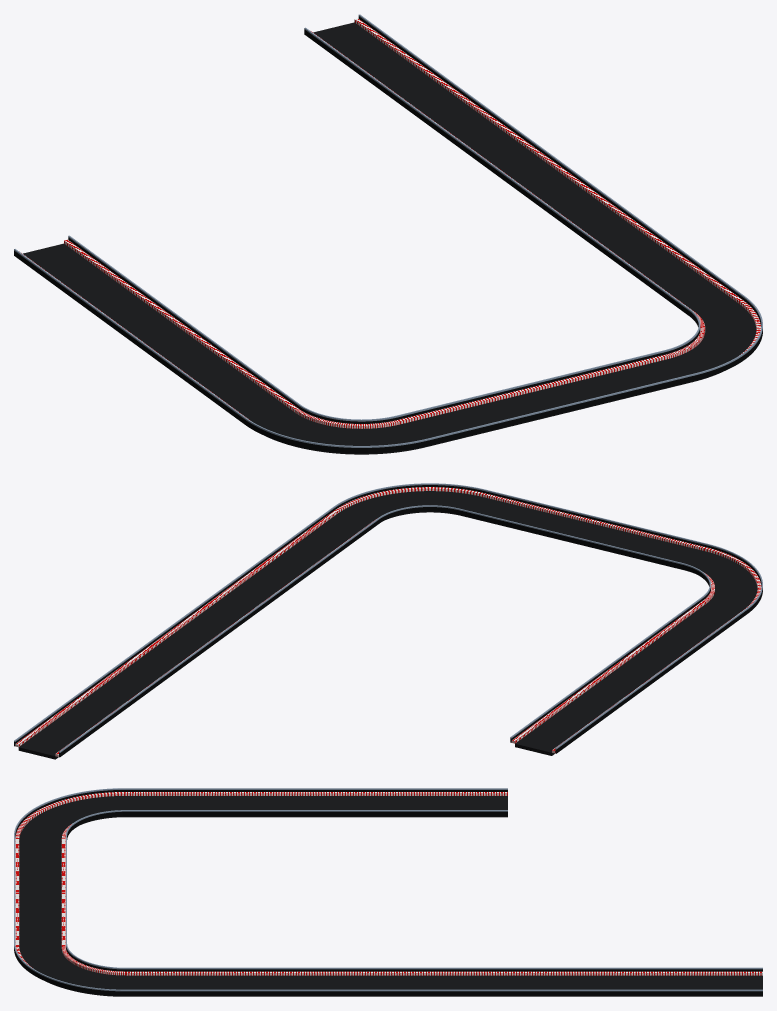
File: S016_MEDIUM_SEED_1602.glb
The picture shows the model from 3 angles, top to bottom: view 1: azimuth 30°, elevation 25°; view 2: azimuth 150°, elevation 25°; view 3: azimuth 270°, elevation 25°; orthographic projection. The views are drawn at different scales.
Visible parts, largest first — view 1: S016_MEDIUM_SEED_1602__instance_005__TRACK_STRAIGHT_MEDIUM__ (×3), S016_MEDIUM_SEED_1602__instance_004__TRACK_STRAIGHT_MEDIUM__ (×3), S016_MEDIUM_SEED_1602__instance_006__TRACK_CURVE_RIGHT_90__R, S016_MEDIUM_SEED_1602__instance_000__TRACK_STRAIGHT_MEDIUM__, S016_MEDIUM_SEED_1602__instance_002__TRACK_STRAIGHT_MEDIUM__, S016_MEDIUM_SEED_1602__instance_008__TRACK_STRAIGHT_MEDIUM__, S016_MEDIUM_SEED_1602__instance_009__TRACK_STRAIGHT_MEDIUM__, S016_MEDIUM_SEED_1602__instance_010__TRACK_STRAIGHT_MEDIUM__, S016_MEDIUM_SEED_1602__instance_001__TRACK_STRAIGHT_MEDIUM__, S016_MEDIUM_SEED_1602__instance_007__TRACK_STRAIGHT_MEDIUM__, S016_MEDIUM_SEED_1602__instance_011__TRACK_STRAIGHT_MEDIUM__, S016_MEDIUM_SEED_1602__instance_003__TRACK_CURVE_RIGHT_90__R (+1 smaller); view 2: S016_MEDIUM_SEED_1602__instance_004__TRACK_STRAIGHT_MEDIUM__ (×3), S016_MEDIUM_SEED_1602__instance_005__TRACK_STRAIGHT_MEDIUM__ (×3), S016_MEDIUM_SEED_1602__instance_003__TRACK_CURVE_RIGHT_90__R, S016_MEDIUM_SEED_1602__instance_011__TRACK_STRAIGHT_MEDIUM__, S016_MEDIUM_SEED_1602__instance_000__TRACK_STRAIGHT_MEDIUM__, S016_MEDIUM_SEED_1602__instance_006__TRACK_CURVE_RIGHT_90__R, S016_MEDIUM_SEED_1602__instance_002__TRACK_STRAIGHT_MEDIUM__, S016_MEDIUM_SEED_1602__instance_008__TRACK_STRAIGHT_MEDIUM__, S016_MEDIUM_SEED_1602__instance_009__TRACK_STRAIGHT_MEDIUM__, S016_MEDIUM_SEED_1602__instance_010__TRACK_STRAIGHT_MEDIUM__, S016_MEDIUM_SEED_1602__instance_001__TRACK_STRAIGHT_MEDIUM__, S016_MEDIUM_SEED_1602__instance_007__TRACK_STRAIGHT_MEDIUM__ (+1 smaller); view 3: S016_MEDIUM_SEED_1602__instance_008__TRACK_STRAIGHT_MEDIUM__ (×6), S016_MEDIUM_SEED_1602__instance_010__TRACK_STRAIGHT_MEDIUM__ (×6), S016_MEDIUM_SEED_1602__instance_007__TRACK_STRAIGHT_MEDIUM__ (×6), S016_MEDIUM_SEED_1602__instance_009__TRACK_STRAIGHT_MEDIUM__ (×6), S016_MEDIUM_SEED_1602__instance_011__TRACK_STRAIGHT_MEDIUM__ (×6), S016_MEDIUM_SEED_1602__instance_001__TRACK_STRAIGHT_MEDIUM__ (×3), S016_MEDIUM_SEED_1602__instance_000__TRACK_STRAIGHT_MEDIUM__ (×3), S016_MEDIUM_SEED_1602__instance_002__TRACK_STRAIGHT_MEDIUM__ (×3), S016_MEDIUM_SEED_1602__instance_004__TRACK_STRAIGHT_MEDIUM__, S016_MEDIUM_SEED_1602__instance_005__TRACK_STRAIGHT_MEDIUM__, S016_MEDIUM_SEED_1602__instance_003__TRACK_CURVE_RIGHT_90__R, S016_MEDIUM_SEED_1602__instance_006__TRACK_CURVE_RIGHT_90__R (+2 smaller).
Part boxes in pixels (box(x1,y1,x2,y2)): S016_MEDIUM_SEED_1602__instance_005__TRACK_STRAIGHT_MEDIUM__ (×3): box(531, 355, 695, 414); S016_MEDIUM_SEED_1602__instance_004__TRACK_STRAIGHT_MEDIUM__ (×3): box(398, 387, 562, 446); S016_MEDIUM_SEED_1602__instance_006__TRACK_CURVE_RIGHT_90__R: box(667, 304, 756, 382); S016_MEDIUM_SEED_1602__instance_000__TRACK_STRAIGHT_MEDIUM__: box(23, 243, 140, 309); S016_MEDIUM_SEED_1602__instance_002__TRACK_STRAIGHT_MEDIUM__: box(177, 356, 294, 422); S016_MEDIUM_SEED_1602__instance_008__TRACK_STRAIGHT_MEDIUM__: box(544, 191, 661, 257); S016_MEDIUM_SEED_1602__instance_009__TRACK_STRAIGHT_MEDIUM__: box(467, 135, 584, 201); S016_MEDIUM_SEED_1602__instance_010__TRACK_STRAIGHT_MEDIUM__: box(390, 78, 507, 144); S016_MEDIUM_SEED_1602__instance_001__TRACK_STRAIGHT_MEDIUM__: box(100, 300, 217, 366); S016_MEDIUM_SEED_1602__instance_007__TRACK_STRAIGHT_MEDIUM__: box(621, 248, 738, 313); S016_MEDIUM_SEED_1602__instance_011__TRACK_STRAIGHT_MEDIUM__: box(313, 22, 430, 88); S016_MEDIUM_SEED_1602__instance_003__TRACK_CURVE_RIGHT_90__R: box(254, 412, 425, 454); S016_MEDIUM_SEED_1602__instance_004__TRACK_STRAIGHT_MEDIUM__ (×3): box(570, 520, 705, 569); S016_MEDIUM_SEED_1602__instance_005__TRACK_STRAIGHT_MEDIUM__ (×3): box(459, 493, 594, 542); S016_MEDIUM_SEED_1602__instance_003__TRACK_CURVE_RIGHT_90__R: box(683, 551, 757, 611); S016_MEDIUM_SEED_1602__instance_011__TRACK_STRAIGHT_MEDIUM__: box(18, 700, 116, 759); S016_MEDIUM_SEED_1602__instance_000__TRACK_STRAIGHT_MEDIUM__: box(515, 697, 612, 755); S016_MEDIUM_SEED_1602__instance_006__TRACK_CURVE_RIGHT_90__R: box(338, 491, 482, 521); S016_MEDIUM_SEED_1602__instance_002__TRACK_STRAIGHT_MEDIUM__: box(643, 603, 740, 658); S016_MEDIUM_SEED_1602__instance_008__TRACK_STRAIGHT_MEDIUM__: box(210, 560, 307, 615); S016_MEDIUM_SEED_1602__instance_009__TRACK_STRAIGHT_MEDIUM__: box(146, 607, 244, 661); S016_MEDIUM_SEED_1602__instance_010__TRACK_STRAIGHT_MEDIUM__: box(83, 654, 180, 708); S016_MEDIUM_SEED_1602__instance_001__TRACK_STRAIGHT_MEDIUM__: box(579, 650, 676, 705); S016_MEDIUM_SEED_1602__instance_007__TRACK_STRAIGHT_MEDIUM__: box(274, 513, 371, 568); S016_MEDIUM_SEED_1602__instance_008__TRACK_STRAIGHT_MEDIUM__ (×6): box(253, 967, 380, 996); S016_MEDIUM_SEED_1602__instance_010__TRACK_STRAIGHT_MEDIUM__ (×6): box(508, 967, 635, 996); S016_MEDIUM_SEED_1602__instance_007__TRACK_STRAIGHT_MEDIUM__ (×6): box(125, 967, 252, 996); S016_MEDIUM_SEED_1602__instance_009__TRACK_STRAIGHT_MEDIUM__ (×6): box(380, 967, 507, 996); S016_MEDIUM_SEED_1602__instance_011__TRACK_STRAIGHT_MEDIUM__ (×6): box(635, 967, 762, 996); S016_MEDIUM_SEED_1602__instance_001__TRACK_STRAIGHT_MEDIUM__ (×3): box(253, 792, 380, 817); S016_MEDIUM_SEED_1602__instance_000__TRACK_STRAIGHT_MEDIUM__ (×3): box(380, 792, 507, 817); S016_MEDIUM_SEED_1602__instance_002__TRACK_STRAIGHT_MEDIUM__ (×3): box(125, 792, 252, 817); S016_MEDIUM_SEED_1602__instance_004__TRACK_STRAIGHT_MEDIUM__: box(19, 840, 61, 894); S016_MEDIUM_SEED_1602__instance_005__TRACK_STRAIGHT_MEDIUM__: box(19, 894, 61, 948); S016_MEDIUM_SEED_1602__instance_003__TRACK_CURVE_RIGHT_90__R: box(19, 796, 125, 840); S016_MEDIUM_SEED_1602__instance_006__TRACK_CURVE_RIGHT_90__R: box(19, 948, 125, 996).
Size of the model in its own units: 45 by 0.92 by 70.5.
Materials: 108 (108 with a texture image).
